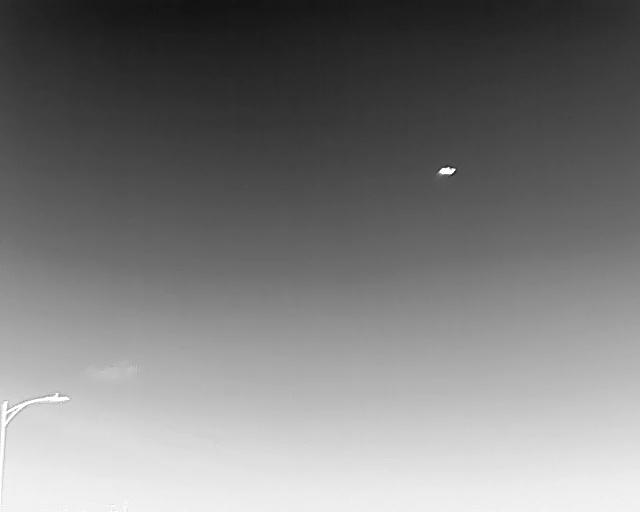fpv-drone: (437, 166, 456, 176)
